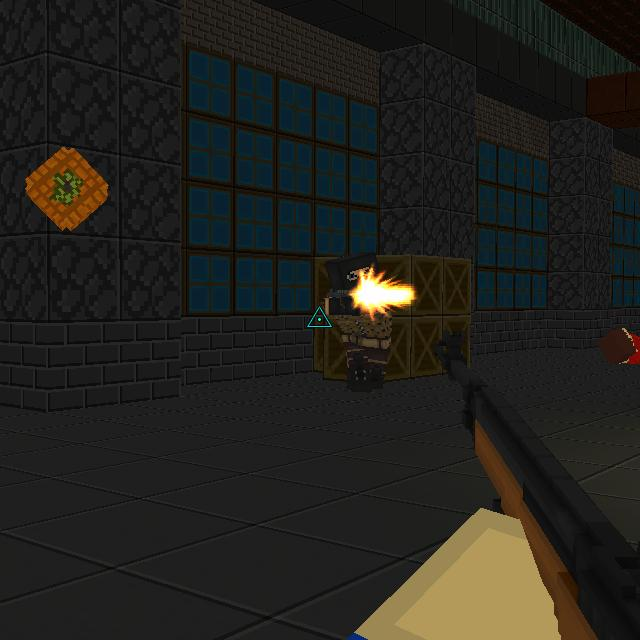enemy: (321, 248, 397, 392)
